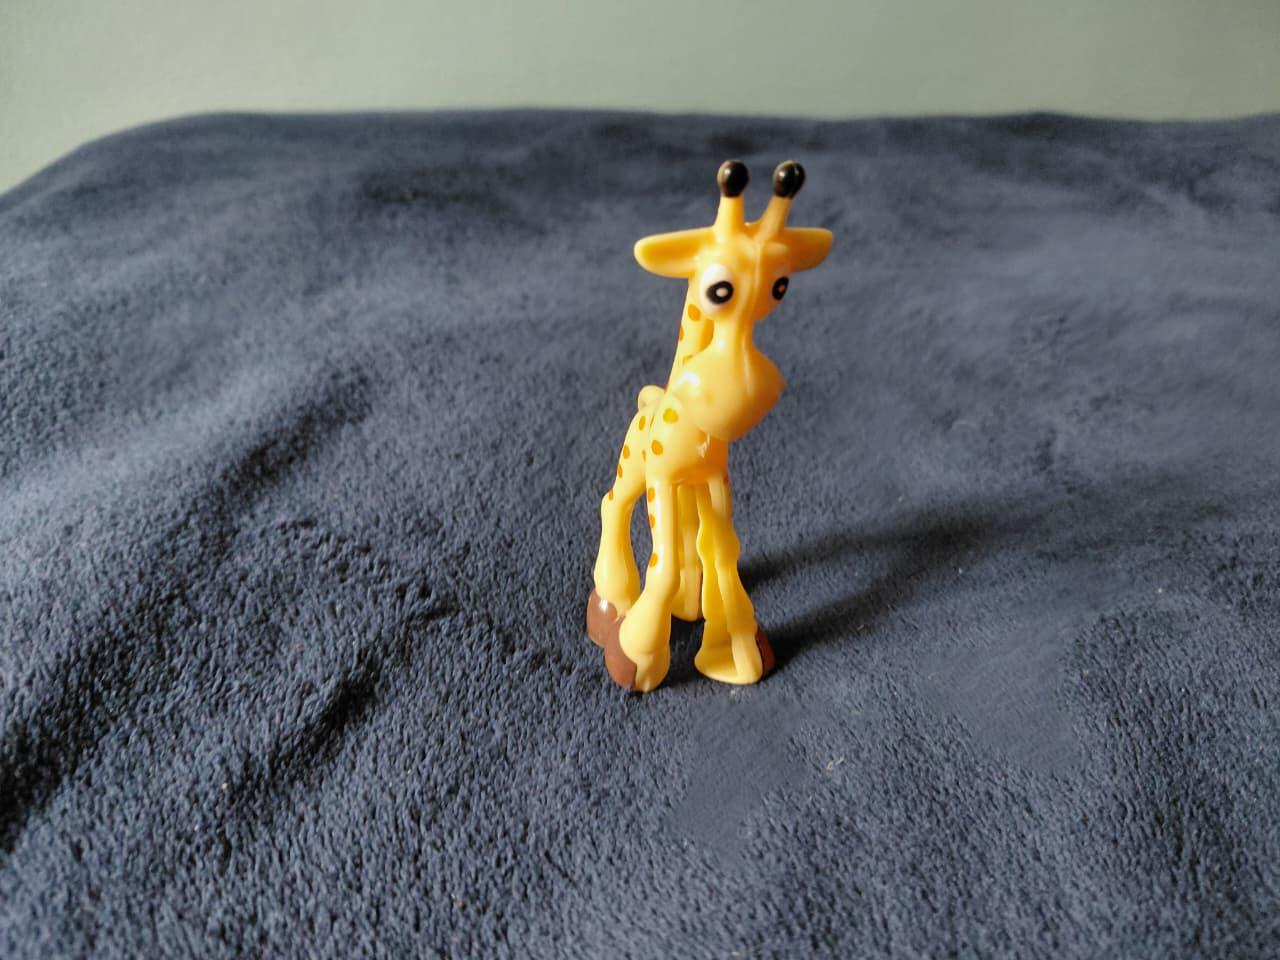giraffe: (566, 152, 842, 698)
